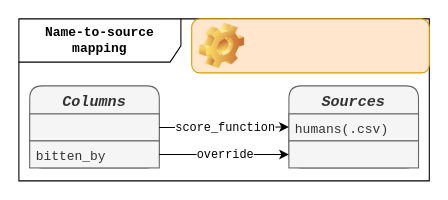
This 448x200 diagram has some shape labels left out. The centre of each missing label's shape, as x and y in pixels:
animals(.csv): the point at 353,154
human_id: the point at 94,127
Mapper (score_function, overrides =overrides): the point at 310,45
